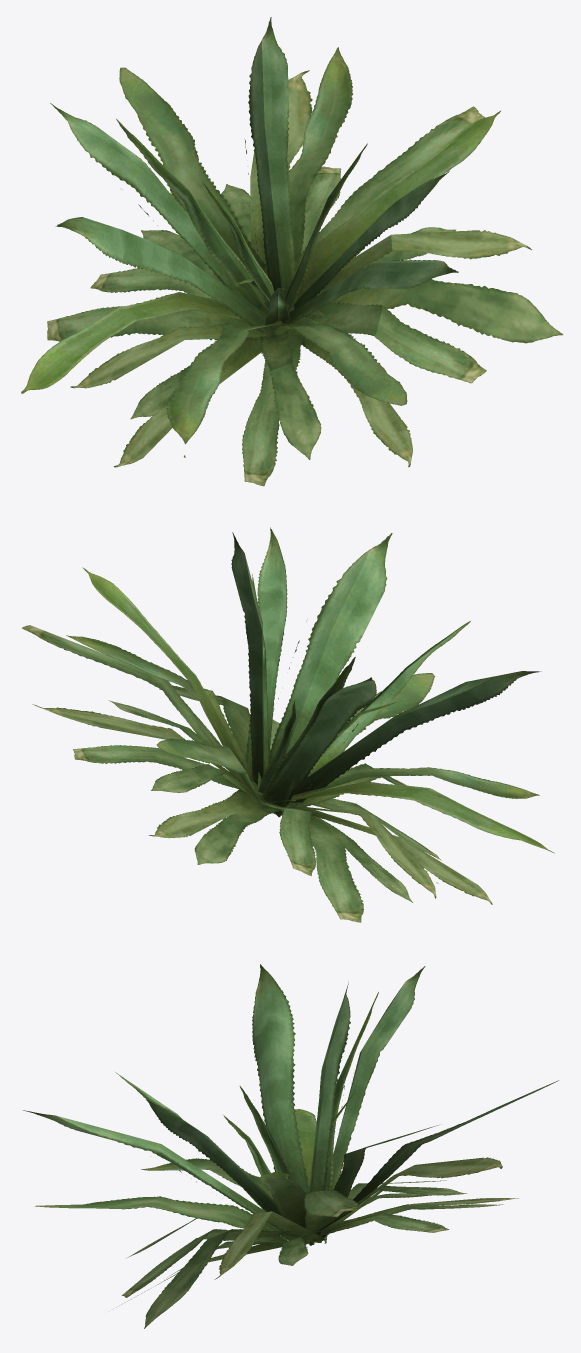
The model's file is dx_cao_3.FBX.
3 views of the same model, one above another, from view 1: azimuth 30°, elevation 25°; view 2: azimuth 150°, elevation 25°; view 3: azimuth 270°, elevation 25° (orthographic). The views are drawn at different scales.
Parts seen in each view (by area): view 1: dx_cao_3; view 2: dx_cao_3; view 3: dx_cao_3.
Boxes of the visible parts, box(x1,y1,x2,y2) form: dx_cao_3: box(21, 17, 563, 486); dx_cao_3: box(22, 527, 554, 922); dx_cao_3: box(23, 964, 558, 1328).
Size of the model in its own units: 156 by 110 by 156.
